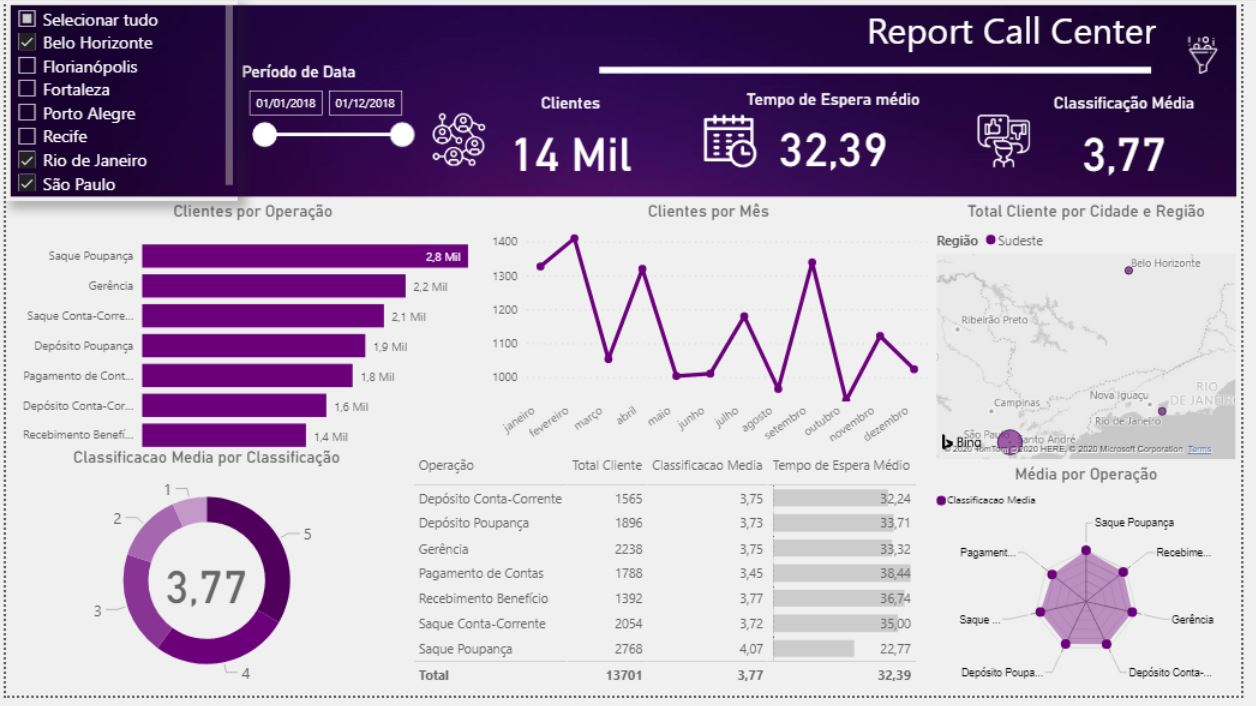

What the dashboard file says about the page in this screenshot:
{"tool":"powerbi","page":{"name":"Página 1","canvas":[1280,720],"ordinal":0},"visuals":[{"type":"image","box":[0,0,1280,208],"z":0},{"type":"card","title":"Clientes","fields":{"Values":["Cliente.Total Cliente"]},"box":[456.5,96,256,96],"z":1000},{"type":"card","title":"Tempo de Espera médio","fields":{"Values":["Avg(Cliente.Tempo de Espera)"]},"box":[729.7,91.1,256,96],"z":2000},{"type":"card","title":"Classificação Média","fields":{"Values":["Pesquisa.Classificacao Media"]},"box":[1039.3,97,240,96],"z":3000},{"type":"image","box":[978.3,113,112,64],"z":4000},{"type":"image","box":[710,113,80,64],"z":5000},{"type":"image","box":[420.7,112,96,64],"z":6000},{"type":"barChart","title":"Clientes por Operação","fields":{"Category":["Cliente.Operação"],"Y":["Cliente.Total Cliente"]},"box":[0,208,512,272],"z":7000},{"type":"lineChart","title":"Clientes por Mês","fields":{"Category":["Cliente.Data.Variation.Hierarquia de datas.Mês"],"Y":["Cliente.Total Cliente"]},"box":[496,208,464,272],"z":8000},{"type":"donutChart","fields":{"Category":["Pesquisa.Classificação"],"Y":["Pesquisa.Classificacao Media"]},"box":[0,464,416,256],"z":9000},{"type":"card","fields":{"Values":["Pesquisa.Classificacao Media"]},"box":[151.1,570.4,112.9,63.5],"z":10000},{"type":"tableEx","fields":{"Values":["Cliente.Operação","Cliente.Total Cliente","Pesquisa.Classificacao Media","Avg(Cliente.Tempo de Espera)"]},"box":[416,464,544,256],"z":11000},{"type":"map","fields":{"Category":["Cliente.Cidade"],"Size":["Cliente.Total Cliente"],"Series":["Cliente.Região"]},"box":[960,208,320,272],"z":12000},{"type":"RadarChart1446119667547","title":"Média por Operação","fields":{"Category":["Cliente.Operação"],"Y":["Pesquisa.Classificacao Media"]},"box":[960,480,320,240],"z":13000},{"type":"textbox","box":[605,0,592,64],"z":14000},{"type":"basicShape","box":[605,48,592,48],"z":15000},{"type":"slicer","title":"Período de Data","fields":{"Values":["Cliente.Data"]},"box":[240,64,192,96],"z":16000},{"type":"slicer","fields":{"Values":["Cliente.Cidade"]},"box":[0,0,240,208],"z":17000},{"type":"image","box":[1200,32,80,48],"z":18000}]}

Visuals, with their boxes in screenshot pixels (x1, y1, x2, y2), scaled from the page's 1280x720 canvas onto the 1256x706 screenshot:
image: locate(0, 0, 1255, 204)
"Clientes" card: locate(448, 94, 699, 188)
"Tempo de Espera médio" card: locate(716, 89, 967, 183)
"Classificação Média" card: locate(1020, 95, 1255, 189)
image: locate(960, 111, 1070, 174)
image: locate(697, 111, 775, 174)
image: locate(413, 110, 507, 173)
"Clientes por Operação" barChart: locate(0, 204, 502, 471)
"Clientes por Mês" lineChart: locate(487, 204, 942, 471)
donutChart - Pesquisa.Classificação x Pesquisa.Classificacao Media: locate(0, 455, 408, 705)
card - Pesquisa.Classificacao Media: locate(148, 559, 259, 622)
tableEx - Cliente.Operação x Cliente.Total Cliente: locate(408, 455, 942, 705)
map - Cliente.Cidade x Cliente.Total Cliente: locate(942, 204, 1255, 471)
"Média por Operação" RadarChart1446119667547: locate(942, 471, 1255, 705)
textbox: locate(594, 0, 1175, 63)
basicShape: locate(594, 47, 1175, 94)
"Período de Data" slicer: locate(236, 63, 424, 157)
slicer - Cliente.Cidade: locate(0, 0, 236, 204)
image: locate(1178, 31, 1255, 78)
